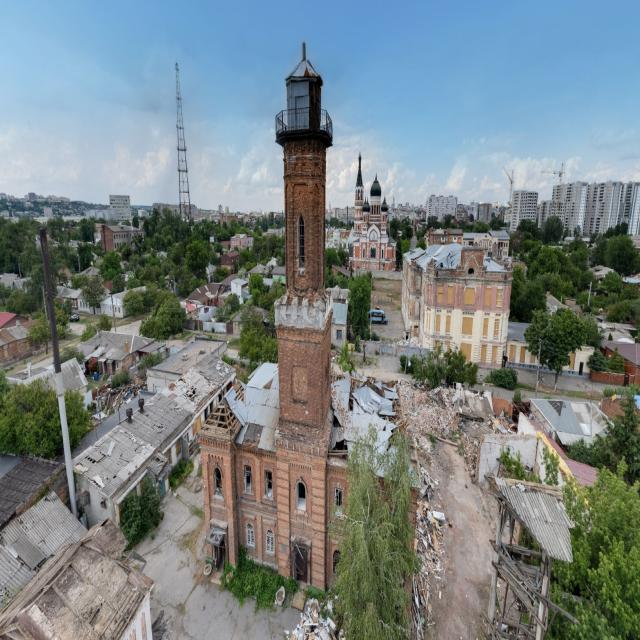broken_window: (296, 213, 306, 275), (295, 479, 307, 512), (213, 466, 223, 500), (334, 485, 343, 517), (264, 468, 273, 499), (243, 464, 252, 494), (265, 528, 275, 555), (245, 522, 255, 549)
building: (72, 352, 238, 530), (401, 239, 513, 367), (347, 150, 397, 274)
roof: (488, 471, 575, 564)
